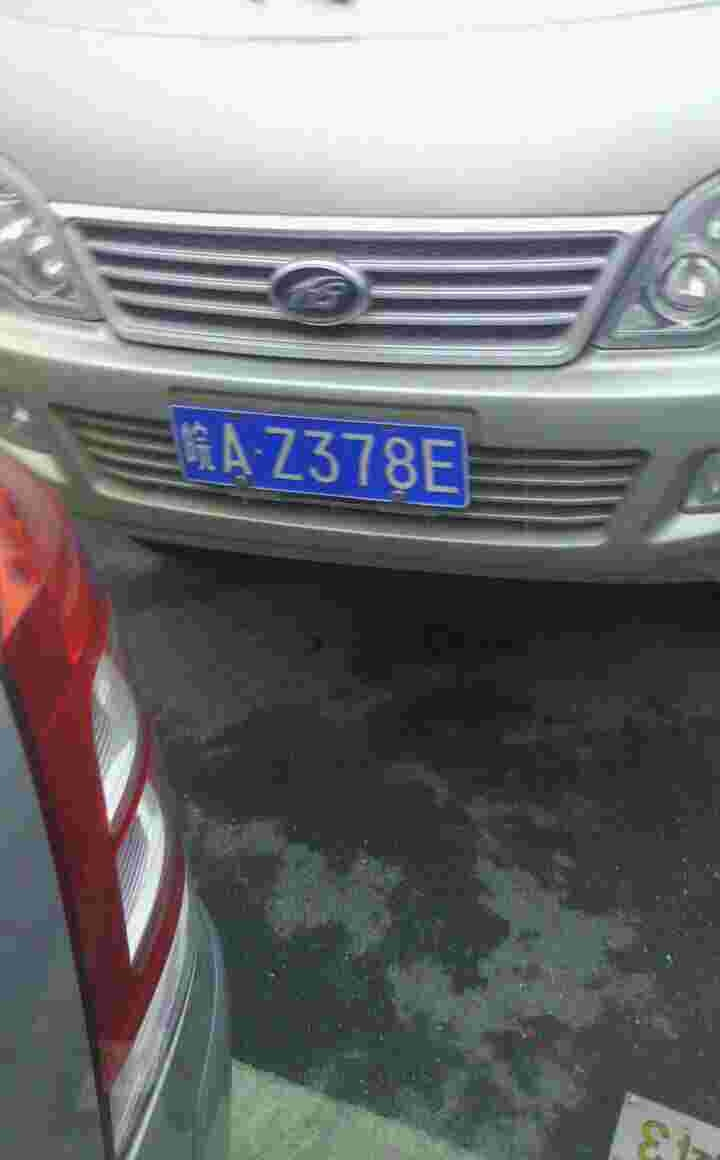car: (160, 404, 479, 511)
